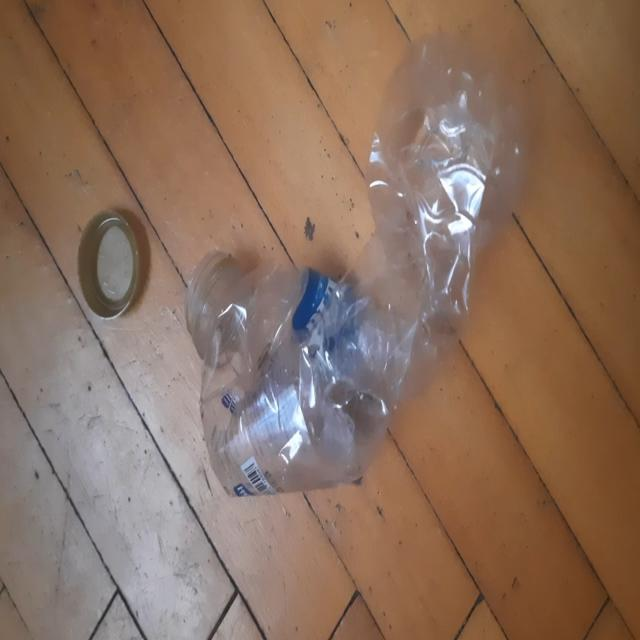Plastic: (194, 31, 514, 498)
